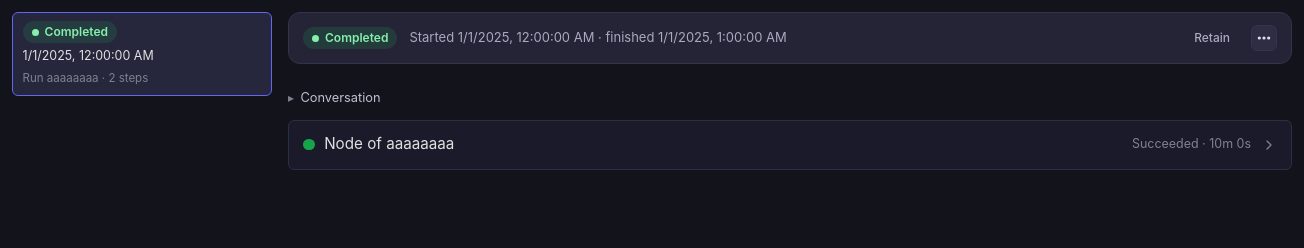
it: RunsPanel run actions › a refused delete (409) shows the server's message and keeps the run
Expected: the text "Node of aaaaaaaa" is shown, [324, 133, 454, 156]
Click the button named "Run actions".
click(1264, 38)  # box [1251, 25, 1277, 51]
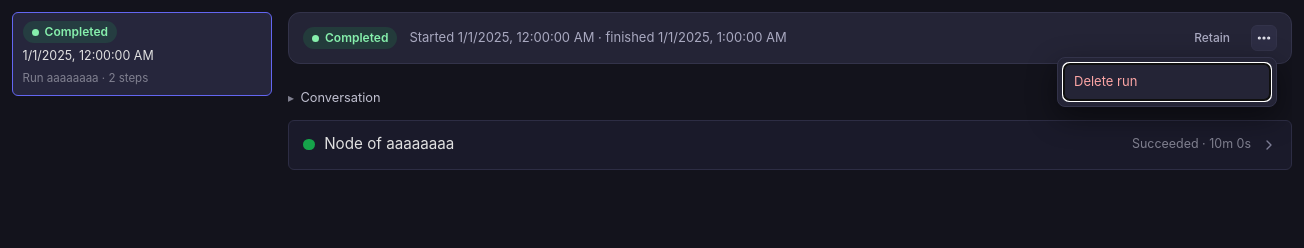
Click the menu item "Delete run".
click(1167, 82)  # box [1064, 64, 1270, 100]
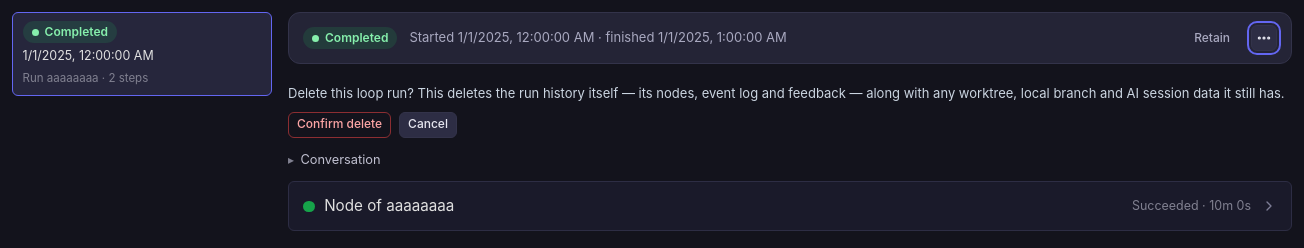
Click the button "Confirm delete".
click(340, 124)  # box [288, 112, 391, 138]
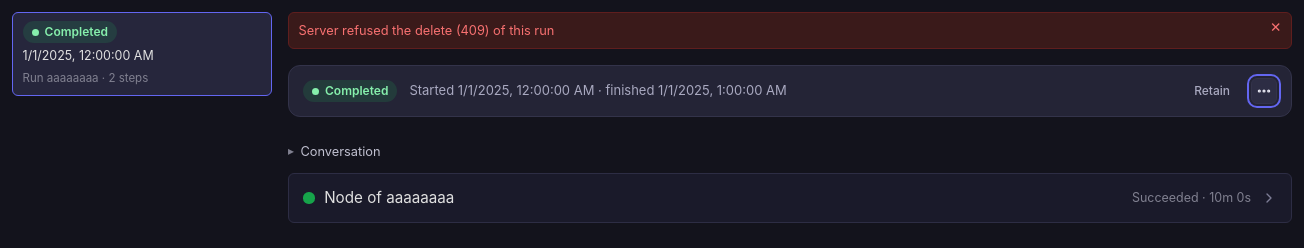
Expected: the button "Completed 1/1/2025, 12:00:00 AM Run aaaaaaaa · 2 steps" is shown, [12, 12, 272, 96]
Expected: the text "Node of aaaaaaaa" is shown, [324, 187, 454, 209]
Click the button named "Run actions".
click(1264, 91)  # box [1251, 78, 1277, 104]
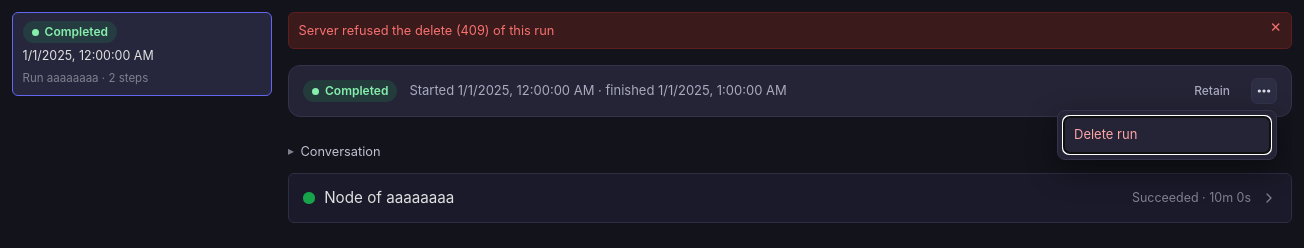
Now the menu item "Delete run" is shown, box [1064, 117, 1270, 153]
Click the button "✕".
click(1276, 28)  # box [1270, 21, 1281, 35]
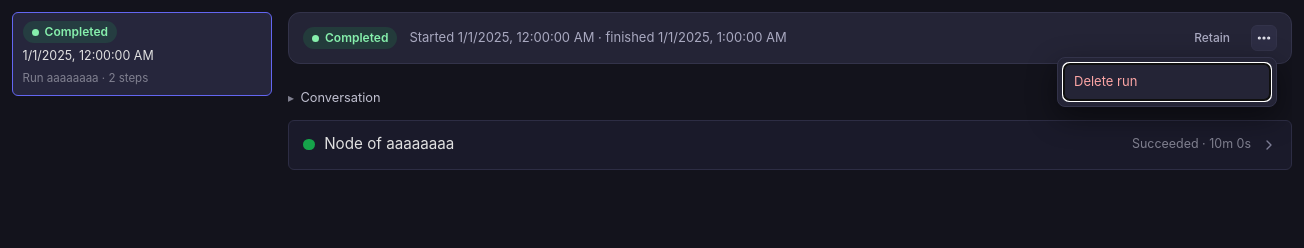
Now the message "Server refused the delete (409) of this run ✕" is gone
